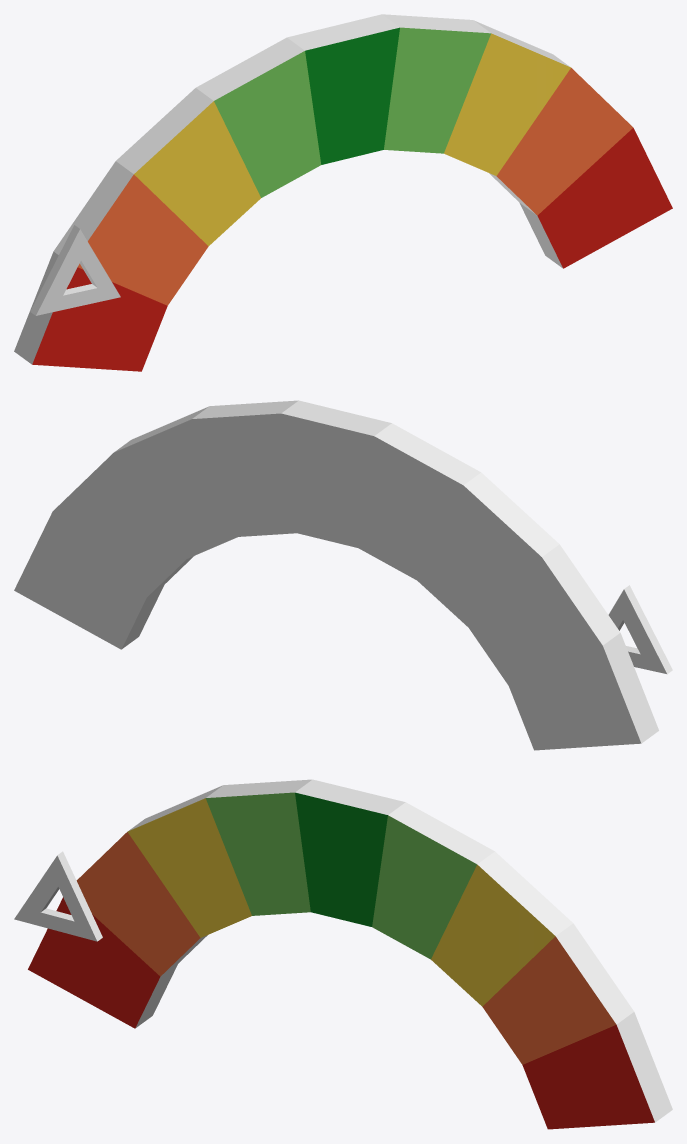
The model's file is bar.fbx.
The picture shows the model from 3 angles, top to bottom: view 1: azimuth 30°, elevation 25°; view 2: azimuth 150°, elevation 25°; view 3: azimuth 330°, elevation 25°; orthographic projection. The views are drawn at different scales.
Visible parts, largest first — view 1: Circle.002, Circle.001; view 2: Circle.002, Circle.001; view 3: Circle.002, Circle.001.
Boxes of the visible parts, x1,y1,x2,y2 form: Circle.002: (14,14,672,371); Circle.001: (30,225,120,315); Circle.002: (14,400,658,750); Circle.001: (608,585,672,674); Circle.002: (28,779,672,1129); Circle.001: (14,851,102,941).
Size of the model in its own units: 88.98 by 37.01 by 6.44.
